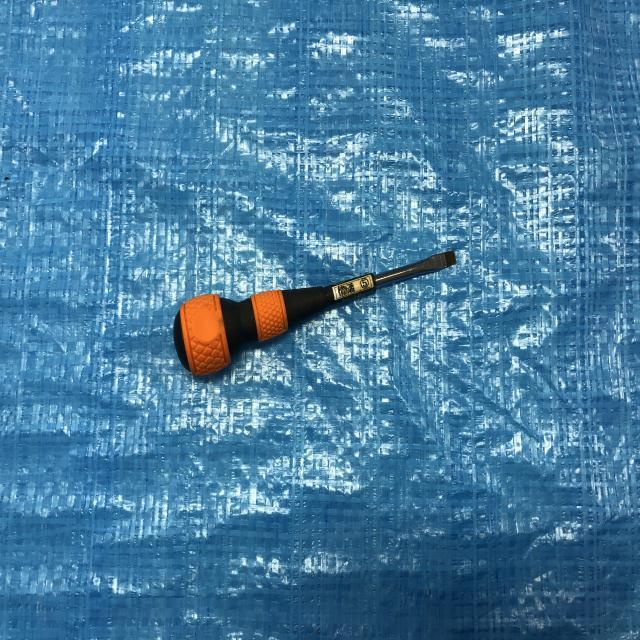screwdriver: (171, 244, 465, 382)
